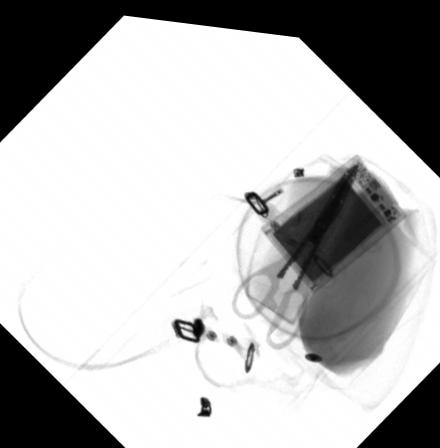Powerbank: (257, 143, 407, 287)
Scissors: (226, 150, 359, 343)
